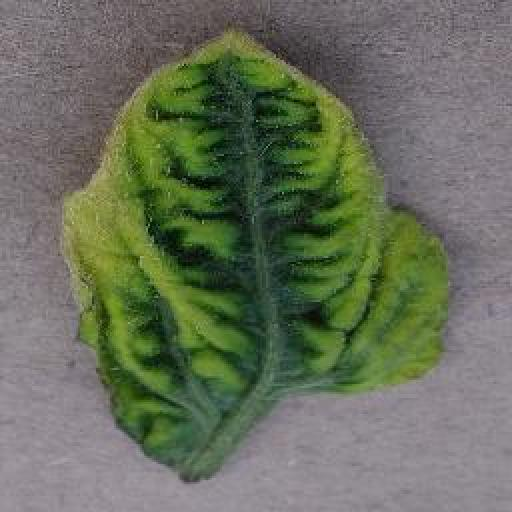disease_tomato: (56, 27, 452, 481)
